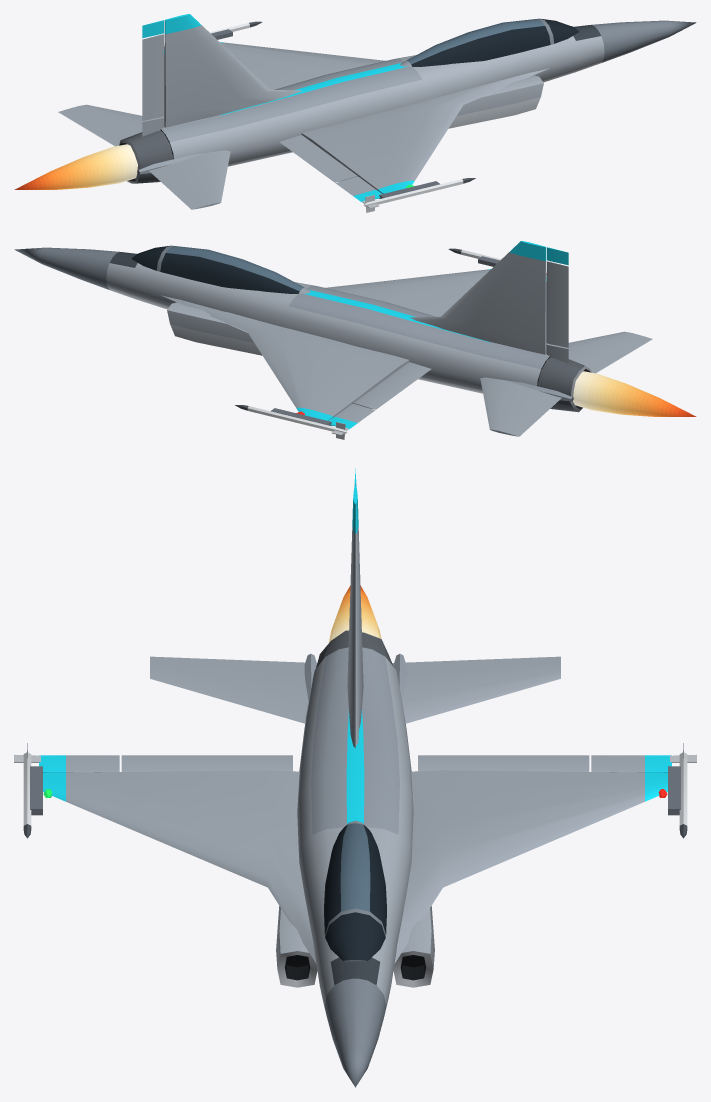
File: fighter_player.glb
3 renders of one model, top to bottom at view 1: azimuth 30°, elevation 25°; view 2: azimuth 150°, elevation 25°; view 3: azimuth 270°, elevation 25°, orthographic. The views are drawn at different scales.
Visible parts, largest first — view 1: Body, Afterburner, Stab_R, Stab_L, Rudder, Flaperon_R; view 2: Body, Afterburner, Stab_L, Stab_R, Rudder, Flaperon_L; view 3: Body, Stab_L, Stab_R, Flaperon_L, Flaperon_R, Afterburner.
Part boxes in pixels (<box>): Body: <box>117,14,696,212</box>; Afterburner: <box>14,144,137,189</box>; Stab_R: <box>149,150,230,209</box>; Stab_L: <box>58,104,153,146</box>; Rudder: <box>142,34,164,120</box>; Flaperon_R: <box>279,135,358,182</box>; Body: <box>14,241,593,439</box>; Afterburner: <box>573,371,696,416</box>; Stab_L: <box>480,377,565,436</box>; Stab_R: <box>557,331,652,373</box>; Rudder: <box>546,261,568,347</box>; Flaperon_L: <box>352,362,431,409</box>; Body: <box>14,468,696,1087</box>; Stab_L: <box>392,656,560,723</box>; Stab_R: <box>150,656,317,723</box>; Flaperon_L: <box>418,755,589,771</box>; Flaperon_R: <box>121,755,292,771</box>; Afterburner: <box>328,585,381,642</box>.
Size of the model in its own units: 18 by 4 by 10.14.
Materials: 2 (2 with a texture image).
